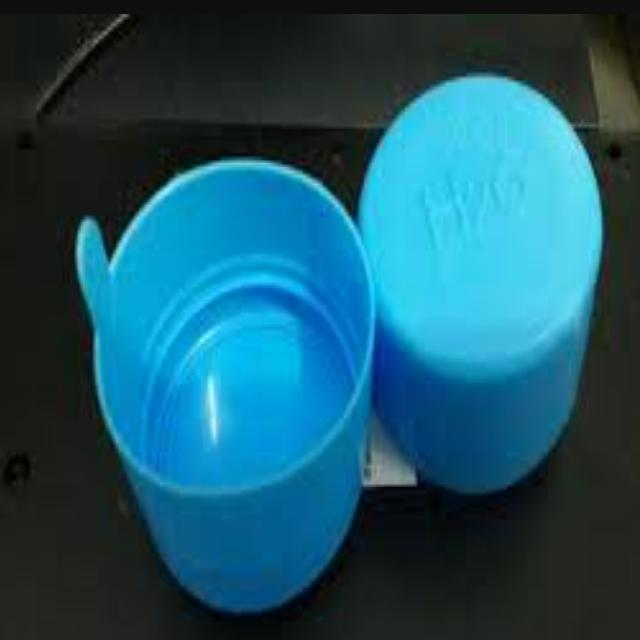TutupGalon: (61, 64, 612, 609)
